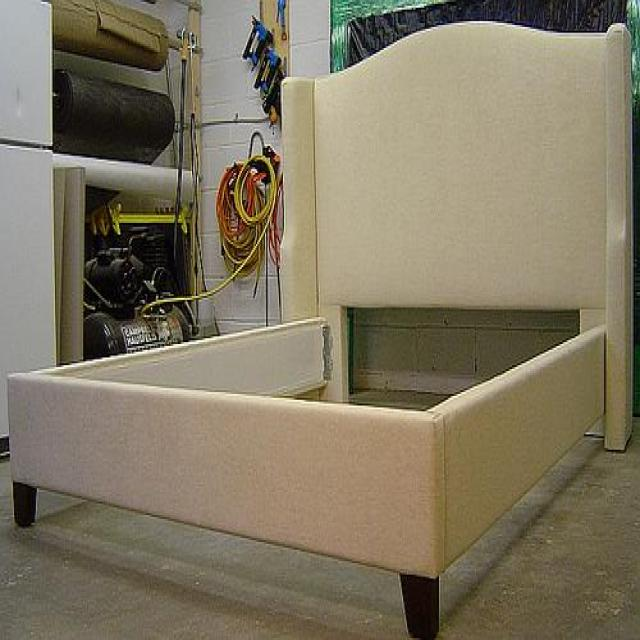bed: (6, 17, 634, 636)
